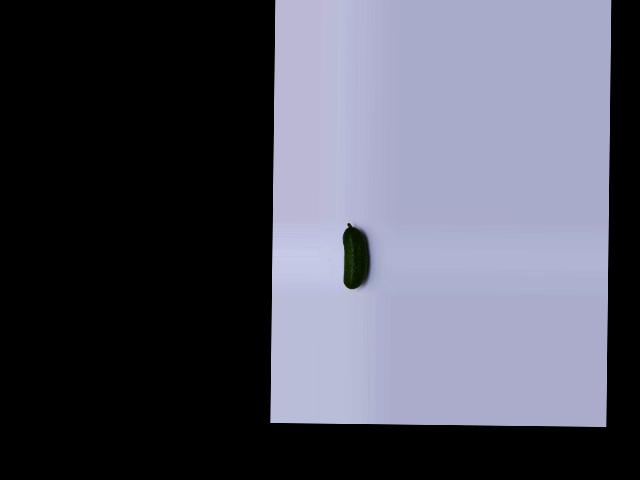cucumber: (342, 223, 368, 289)
